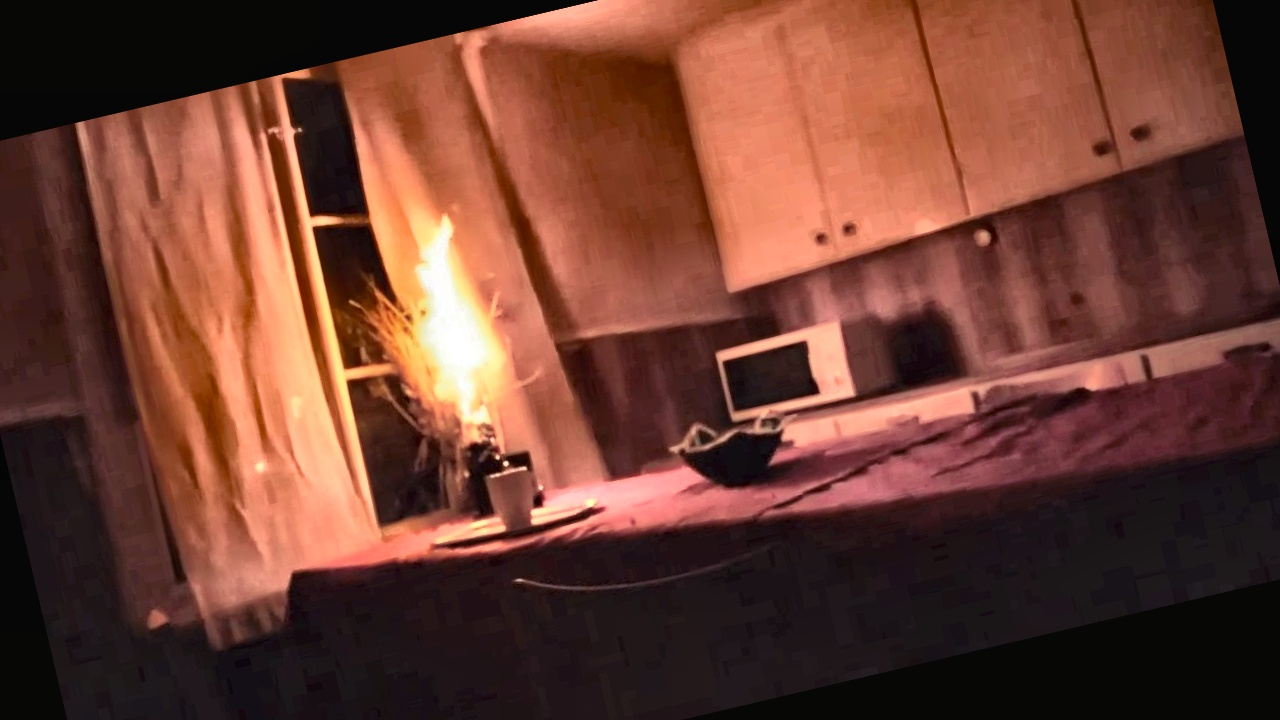fire: (354, 170, 578, 467)
